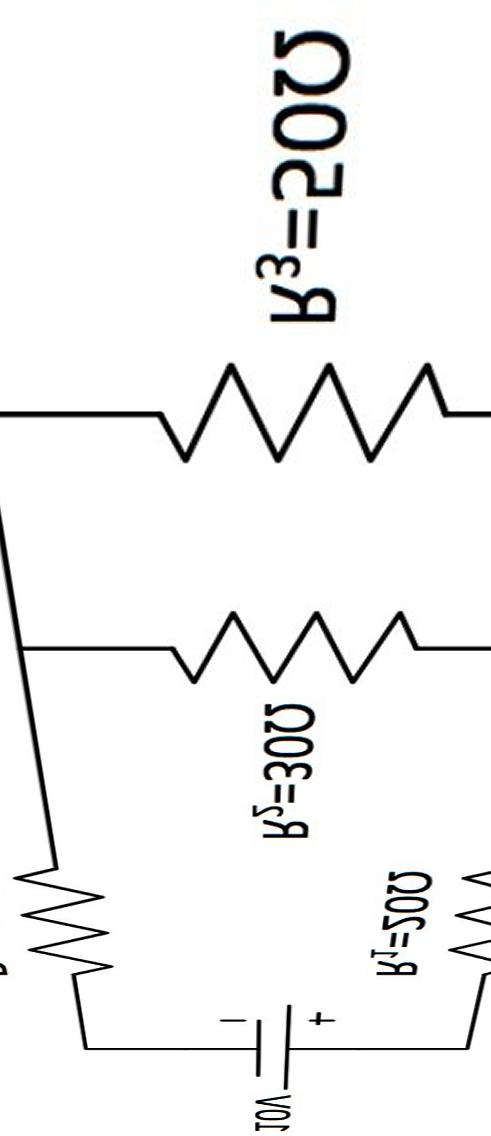resistor: (137, 341, 463, 492), (134, 575, 444, 701), (11, 839, 134, 1021)
